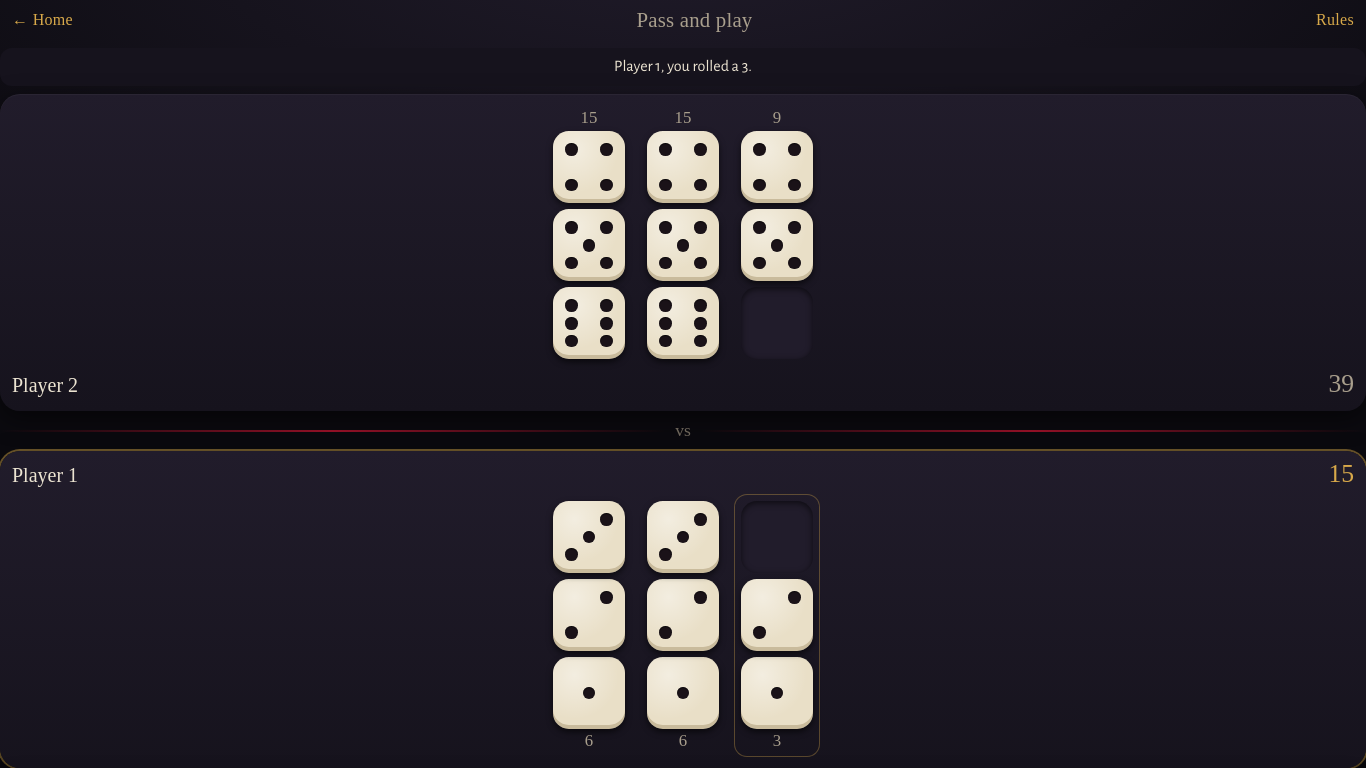
Test case: LocalGameScreen › shows the result and starts over on Play again
The image size is (1366, 768).
Click the button "3".
click(777, 625)  # box [735,495,819,756]
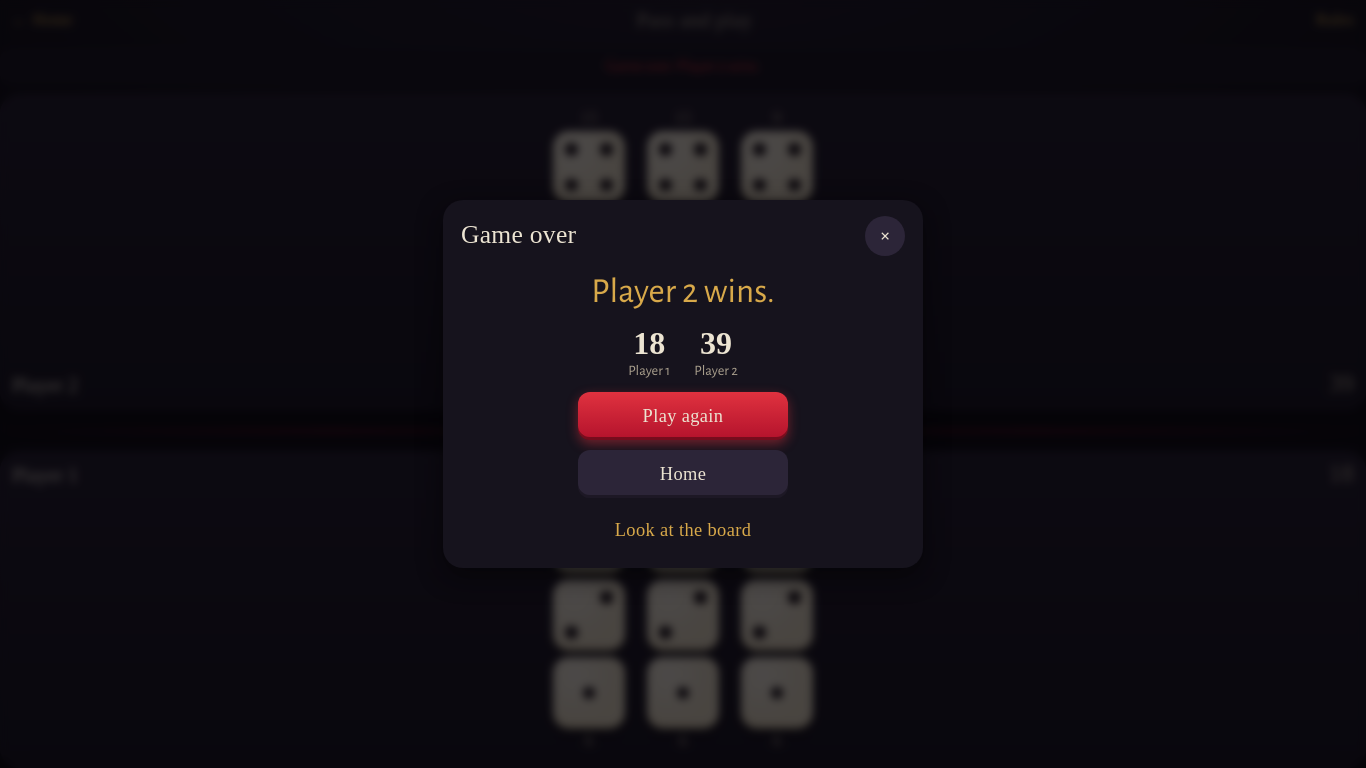
Expected: the dialog "Game over" is shown, [443,200,923,568]
Expected: the text "Player 2 wins." is shown, [591,268,775,315]
Click the button "Play again".
click(683, 416)  # box [578,392,788,440]
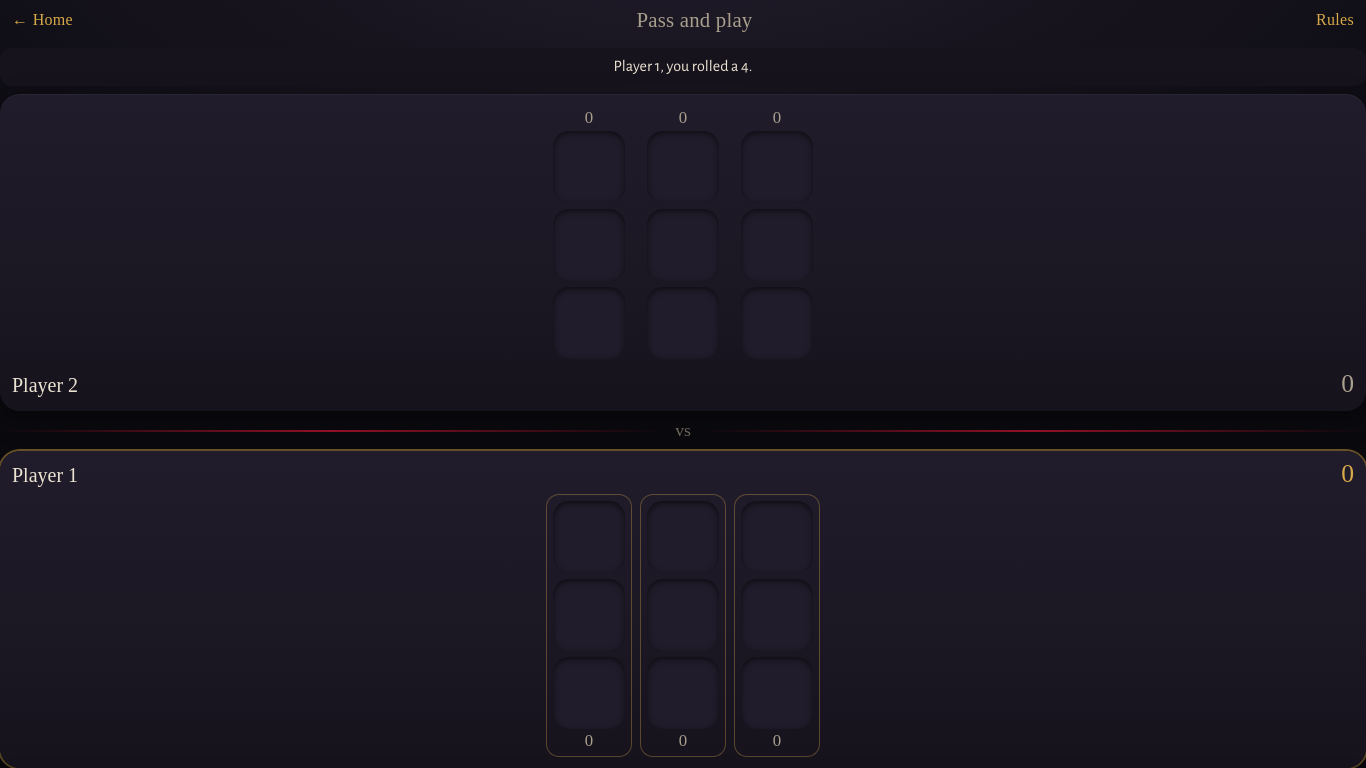
Expected: the dialog is gone
Expected: the message shows "Player 1, you rolled a", [614,58,752,74]
Click the button with aria-label "How to play".
click(1335, 20)  # box [1304,0,1365,40]
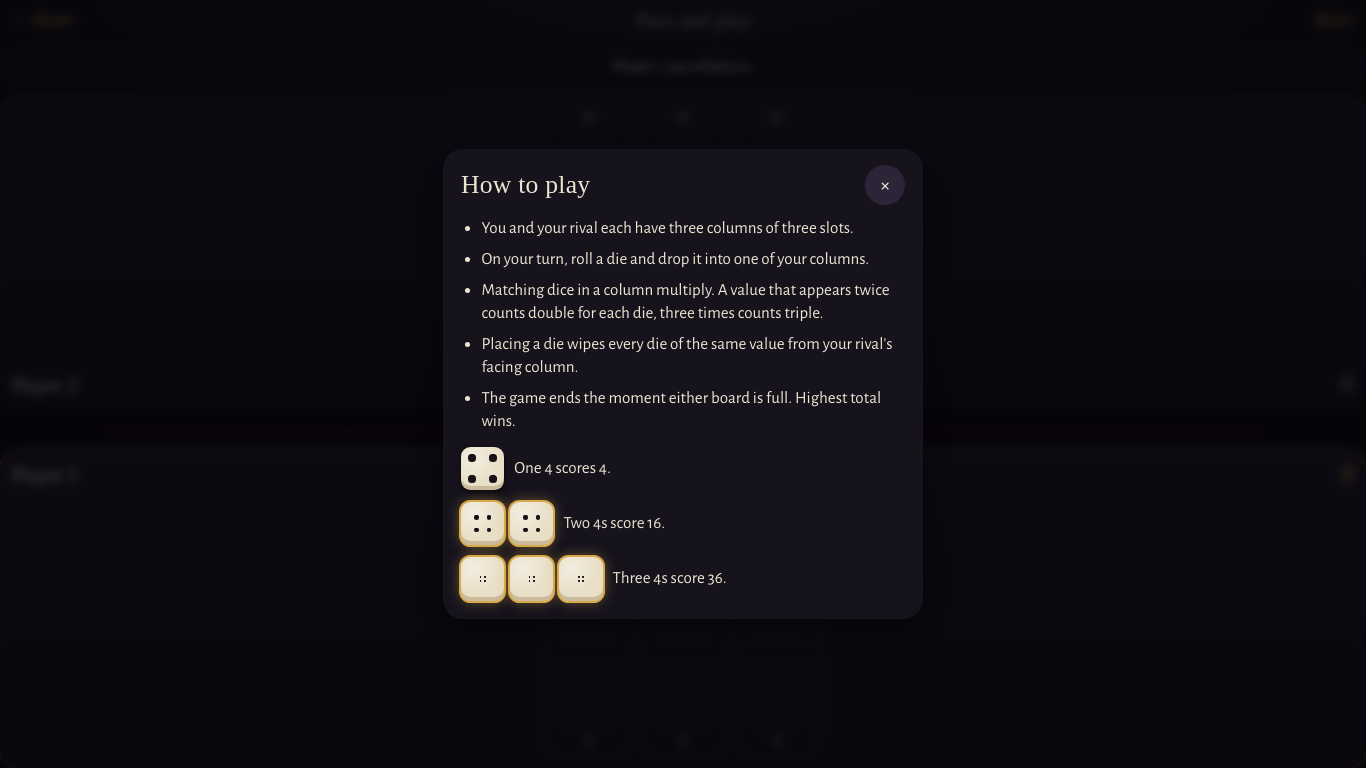
Expected: the dialog "How to play" is shown, [443,150,923,619]
